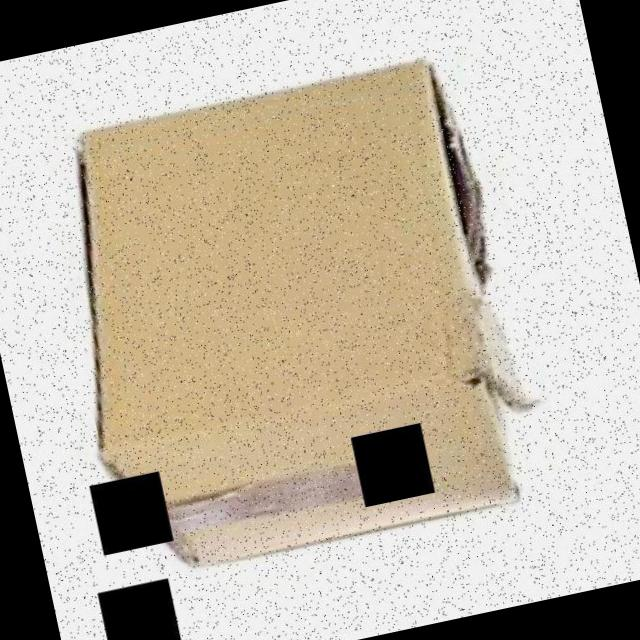box: (26, 38, 571, 605)
